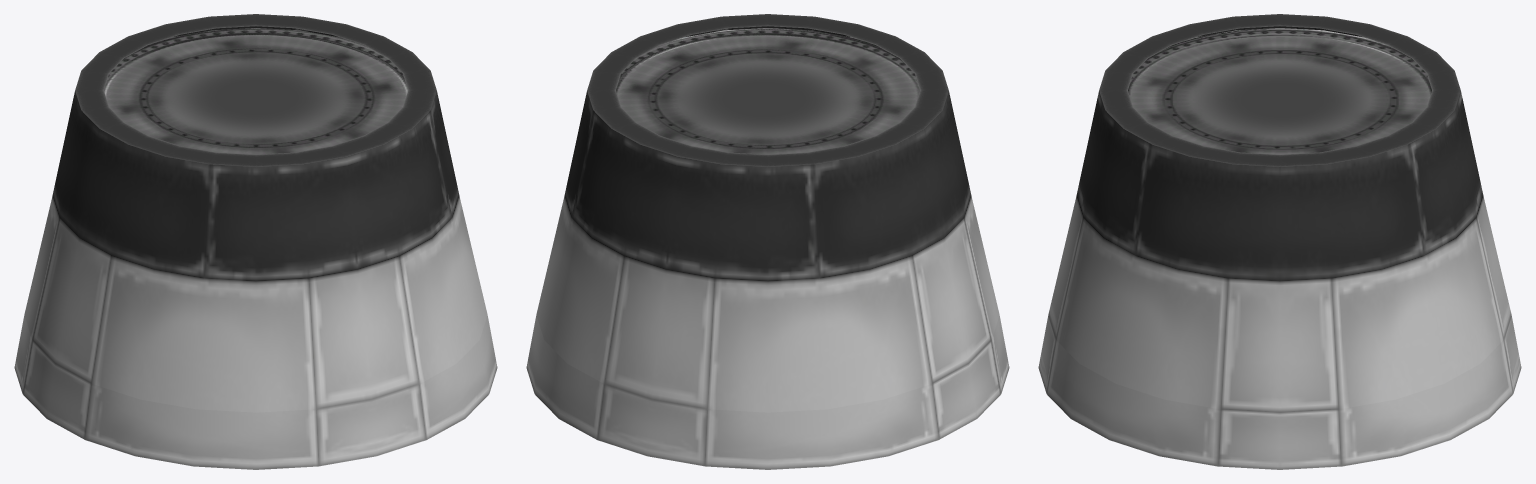
The model's file is bluedog_thor9375mAdapter.dae.
3 views of the same model, side by side, from view 1: azimuth 30°, elevation 25°; view 2: azimuth 150°, elevation 25°; view 3: azimuth 270°, elevation 25° (orthographic).
Visible parts, largest first — view 1: polySurface21, polySurface22; view 2: polySurface21, polySurface22; view 3: polySurface21, polySurface22.
Boxes of the visible parts, left/top/right/bottom form: polySurface21: left=14, top=14, right=497, bottom=469; polySurface22: left=104, top=28, right=407, bottom=154; polySurface21: left=526, top=14, right=1009, bottom=469; polySurface22: left=616, top=28, right=919, bottom=154; polySurface21: left=1038, top=14, right=1521, bottom=469; polySurface22: left=1128, top=28, right=1431, bottom=154.
Bounding box in the file's own units: 1.25 × 0.7922 × 1.25.
